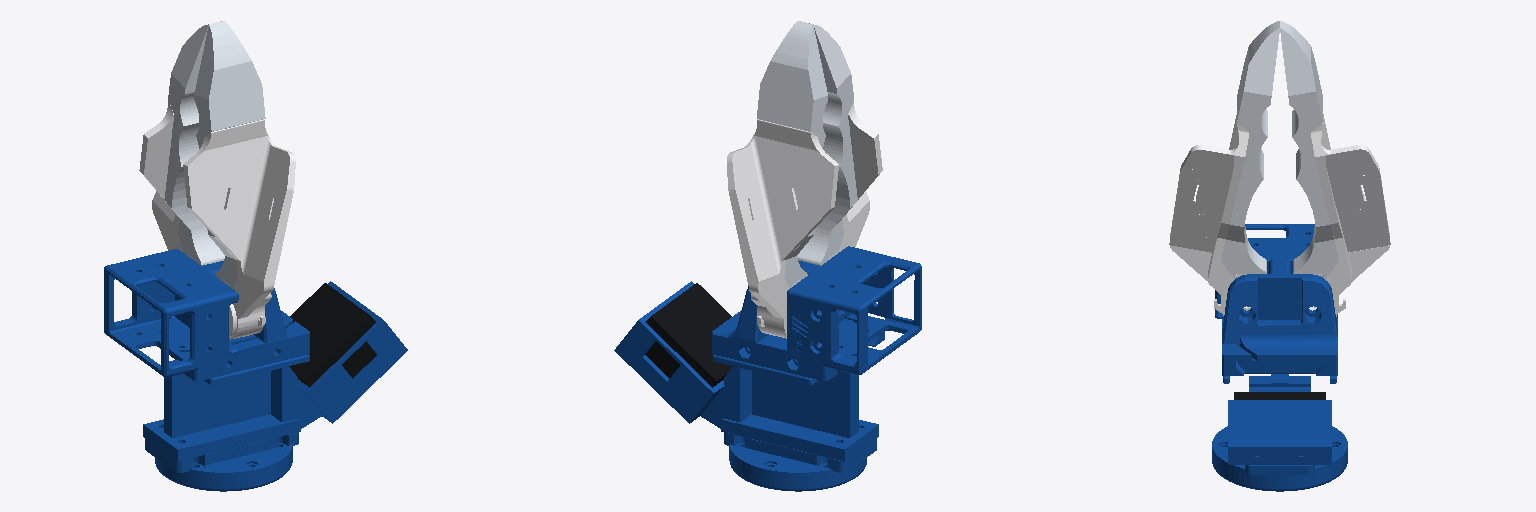
The robot description file, URDF, robot "pg_chopstick_openarm_d405":
<?xml version="1.0"?>
<!-- PG Chopstick, generated by chopstick/cad/urdf.py. Units: m, rad. -->
<robot name="pg_chopstick_openarm_d405">
  <material name="pg_blue"><color rgba="0.12 0.37 0.68 1"/></material>
  <material name="pg_white"><color rgba="0.96 0.96 0.97 1"/></material>
  <material name="tpu"><color rgba="0.87 0.9 0.93 1"/></material>
  <material name="camera"><color rgba="0.11 0.12 0.13 1"/></material>
  <link name="chopstick_flange"/>
  <link name="chopstick_base">
    <visual name="chopstick_base_sa"><origin xyz="0 0 0" rpy="0 0 0"/><geometry><mesh filename="meshes/chopstick_base_sa.stl" scale="0.001 0.001 0.001"/></geometry><material name="pg_blue"/></visual>
    <collision name="chopstick_base_sa"><origin xyz="0 0 0" rpy="0 0 0"/><geometry><mesh filename="meshes/chopstick_base_sa.stl" scale="0.001 0.001 0.001"/></geometry></collision>
    <visual name="chopstick_clip_sa"><origin xyz="0 0 0" rpy="0 0 0"/><geometry><mesh filename="meshes/chopstick_clip_sa.stl" scale="0.001 0.001 0.001"/></geometry><material name="pg_blue"/></visual>
    <collision name="chopstick_clip_sa"><origin xyz="0 0 0" rpy="0 0 0"/><geometry><mesh filename="meshes/chopstick_clip_sa.stl" scale="0.001 0.001 0.001"/></geometry></collision>
    <visual name="d405_frame"><origin xyz="0 0 0" rpy="0 0 0"/><geometry><mesh filename="meshes/d405_frame.stl" scale="0.001 0.001 0.001"/></geometry><material name="pg_blue"/></visual>
    <collision name="d405_frame"><origin xyz="0 0 0" rpy="0 0 0"/><geometry><mesh filename="meshes/d405_frame.stl" scale="0.001 0.001 0.001"/></geometry></collision>
    <visual name="openarm_adapter"><origin xyz="0 0 0" rpy="0 0 0"/><geometry><mesh filename="meshes/openarm_adapter.stl" scale="0.001 0.001 0.001"/></geometry><material name="pg_blue"/></visual>
    <collision name="openarm_adapter"><origin xyz="0 0 0" rpy="0 0 0"/><geometry><mesh filename="meshes/openarm_adapter.stl" scale="0.001 0.001 0.001"/></geometry></collision>
    <visual name="d405_envelope"><origin xyz="0 0 0" rpy="0 0 0"/><geometry><mesh filename="meshes/d405_envelope.stl" scale="0.001 0.001 0.001"/></geometry><material name="camera"/></visual>
    <collision name="d405_envelope"><origin xyz="0 0 0" rpy="0 0 0"/><geometry><mesh filename="meshes/d405_envelope.stl" scale="0.001 0.001 0.001"/></geometry></collision>
    <visual name="servo_envelope"><origin xyz="0 0 0" rpy="0 0 0"/><geometry><mesh filename="meshes/servo_envelope.stl" scale="0.001 0.001 0.001"/></geometry><material name="camera"/></visual>
    <collision name="servo_envelope"><origin xyz="0 0 0" rpy="0 0 0"/><geometry><mesh filename="meshes/servo_envelope.stl" scale="0.001 0.001 0.001"/></geometry></collision>
    <inertial><origin xyz="0.0471384 0.00124627 -0.00250426" rpy="0 0 0"/><mass value="0.31396"/><inertia ixx="0.0004607" ixy="-8.086e-06" ixz="0.0001668" iyy="0.0006213" iyz="1.176e-05" izz="0.0002752"/></inertial>
  </link>
  <link name="chopstick_jaw_left">
    <visual name="jaw_left_sa"><origin xyz="0 0 0" rpy="0 0 0"/><geometry><mesh filename="meshes/jaw_left_sa_jawframe.stl" scale="0.001 0.001 0.001"/></geometry><material name="pg_white"/></visual>
    <collision name="jaw_left_sa"><origin xyz="0 0 0" rpy="0 0 0"/><geometry><mesh filename="meshes/jaw_left_sa_jawframe.stl" scale="0.001 0.001 0.001"/></geometry></collision>
    <visual name="tip_tpu_left"><origin xyz="0 0 0" rpy="0 0 0"/><geometry><mesh filename="meshes/tip_tpu_left_jawframe.stl" scale="0.001 0.001 0.001"/></geometry><material name="tpu"/></visual>
    <collision name="tip_tpu_left"><origin xyz="0 0 0" rpy="0 0 0"/><geometry><mesh filename="meshes/tip_tpu_left_jawframe.stl" scale="0.001 0.001 0.001"/></geometry></collision>
    <inertial><origin xyz="0.0644882 0.00198443 -0.00308682" rpy="0 0 0"/><mass value="0.049091"/><inertia ixx="6.696e-06" ixy="7.42e-06" ixz="8.384e-07" iyy="6.992e-05" iyz="-4.065e-07" izz="7.082e-05"/></inertial>
  </link>
  <link name="chopstick_tip_left"/>
  <link name="chopstick_jaw_right">
    <visual name="jaw_right"><origin xyz="0 0 0" rpy="0 0 0"/><geometry><mesh filename="meshes/jaw_right_jawframe.stl" scale="0.001 0.001 0.001"/></geometry><material name="pg_white"/></visual>
    <collision name="jaw_right"><origin xyz="0 0 0" rpy="0 0 0"/><geometry><mesh filename="meshes/jaw_right_jawframe.stl" scale="0.001 0.001 0.001"/></geometry></collision>
    <visual name="tip_tpu_right"><origin xyz="0 0 0" rpy="0 0 0"/><geometry><mesh filename="meshes/tip_tpu_right_jawframe.stl" scale="0.001 0.001 0.001"/></geometry><material name="tpu"/></visual>
    <collision name="tip_tpu_right"><origin xyz="0 0 0" rpy="0 0 0"/><geometry><mesh filename="meshes/tip_tpu_right_jawframe.stl" scale="0.001 0.001 0.001"/></geometry></collision>
    <inertial><origin xyz="0.0648709 -0.00196465 -0.00300603" rpy="0 0 0"/><mass value="0.048723"/><inertia ixx="6.645e-06" ixy="-7.43e-06" ixz="1.141e-06" iyy="6.876e-05" iyz="3.844e-07" izz="6.963e-05"/></inertial>
  </link>
  <link name="chopstick_tip_right"/>
  <link name="chopstick_camera"/>
  <link name="chopstick_tcp"/>
  <joint name="chopstick_mount_joint" type="fixed"><parent link="chopstick_flange"/><child link="chopstick_base"/><origin xyz="0 0 0.1095" rpy="3.14159265 -1.57079633 0"/></joint>
  <joint name="chopstick_jaw" type="revolute">
    <parent link="chopstick_base"/><child link="chopstick_jaw_left"/>
    <origin xyz="0.06733 0.015 0" rpy="0 0 0"/><axis xyz="0 0 1"/>
    <limit lower="0.00000" upper="1.25664" effort="4" velocity="6"/>
  </joint>
  <joint name="chopstick_tip_left_joint" type="fixed"><parent link="chopstick_jaw_left"/><child link="chopstick_tip_left"/><origin xyz="0.137417 -0.015085 -0.003671" rpy="0 0 0"/></joint>
  <joint name="chopstick_jaw_right" type="revolute">
    <parent link="chopstick_base"/><child link="chopstick_jaw_right"/>
    <origin xyz="0.06733 -0.015 0" rpy="0 0 0"/><axis xyz="0 0 1"/>
    <limit lower="-1.25664" upper="0.00000" effort="4" velocity="6"/>
    <mimic joint="chopstick_jaw" multiplier="-1" offset="0"/>
  </joint>
  <joint name="chopstick_tip_right_joint" type="fixed"><parent link="chopstick_jaw_right"/><child link="chopstick_tip_right"/><origin xyz="0.137417 0.015085 -0.003671" rpy="0 0 0"/></joint>
  <joint name="chopstick_camera_joint" type="fixed"><parent link="chopstick_base"/><child link="chopstick_camera"/><origin xyz="0.039420249 0 0.047403871" rpy="0 0.610864816 0"/></joint>
  <joint name="chopstick_tcp_joint" type="fixed"><parent link="chopstick_base"/><child link="chopstick_tcp"/><origin xyz="0.204747 0 -0.003671" rpy="0 0 0"/></joint>
</robot>

--- Facts derived from the render (not from the file) ---
3 views of the same robot in one strip: view 1: azimuth 30°, elevation 25°; view 2: azimuth 150°, elevation 25°; view 3: azimuth 270°, elevation 25° (orthographic).
Robot: pg_chopstick_openarm_d405 — 8 links, 7 joints (2 revolute, 5 fixed); root link chopstick_flange; default pose: every joint at zero.
Visible links, largest first — view 1: chopstick_base, chopstick_jaw_left, chopstick_jaw_right; view 2: chopstick_base, chopstick_jaw_right, chopstick_jaw_left; view 3: chopstick_base, chopstick_jaw_right, chopstick_jaw_left.
Boxes of the visible links, x1,y1,x2,y2 form: chopstick_base: (104,249,407,491); chopstick_jaw_left: (183,21,295,339); chopstick_jaw_right: (139,21,224,265); chopstick_base: (614,246,921,491); chopstick_jaw_right: (727,21,838,338); chopstick_jaw_left: (797,23,882,265); chopstick_base: (1212,224,1347,491); chopstick_jaw_right: (1280,21,1390,316); chopstick_jaw_left: (1169,21,1279,315).
Bounding box of the posed robot: 0.1296 × 0.1008 × 0.2197 m (x, y, z).
Meshes: 10 distinct files referenced, 9 mesh visuals loaded (9 binary STL); not drawn: 1 (reference not matched to a file when rendering).
